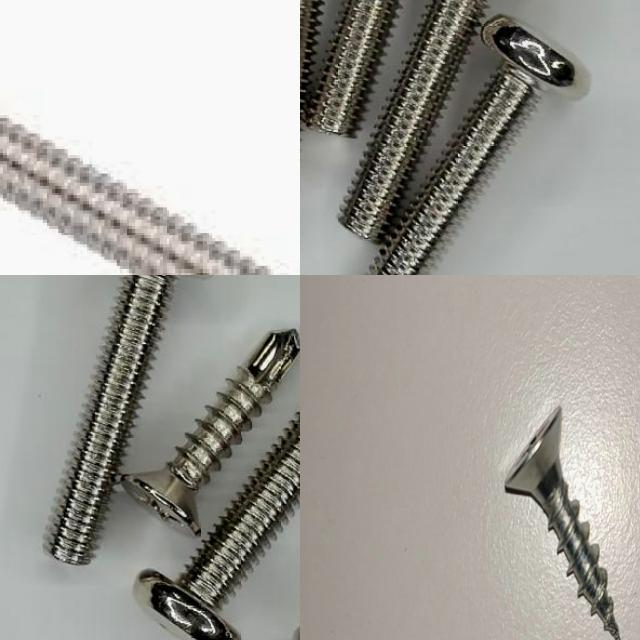Screw: (368, 15, 590, 275), (0, 114, 286, 275), (46, 275, 174, 565), (137, 413, 300, 640), (122, 330, 300, 535), (338, 0, 487, 242), (505, 405, 621, 640), (308, 0, 401, 137)
